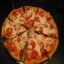pizza: (2, 6, 60, 60)
